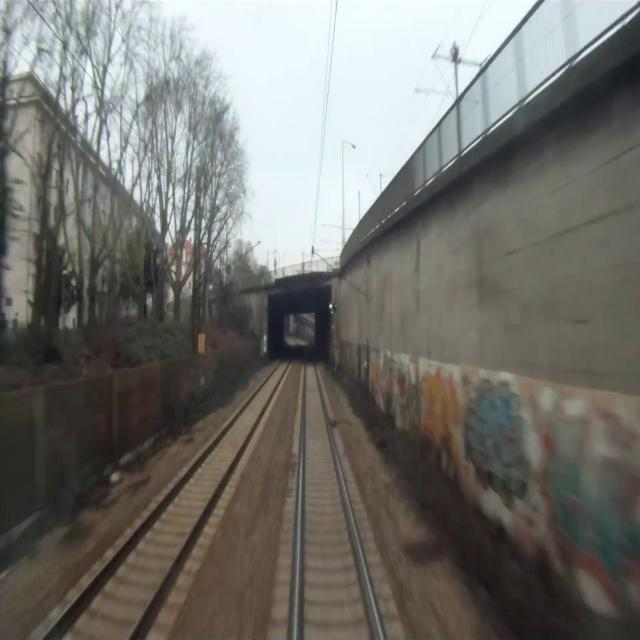rail-track: (54, 344, 289, 639), (297, 341, 379, 639)
